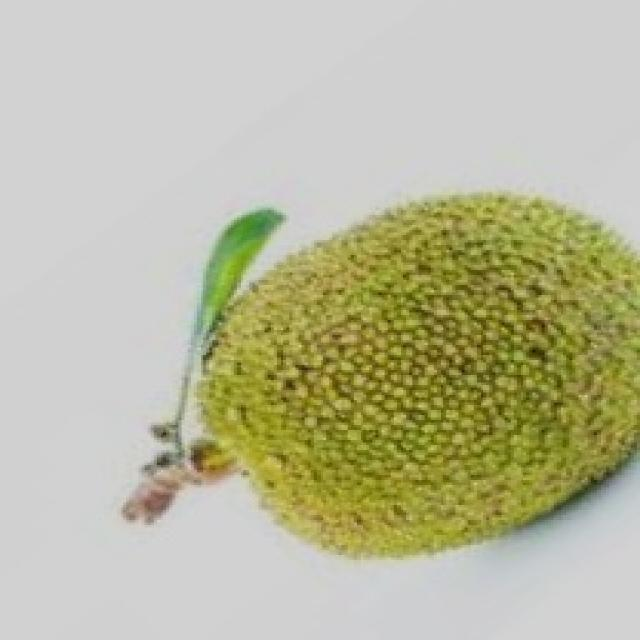Fruit: (203, 172, 637, 588)
